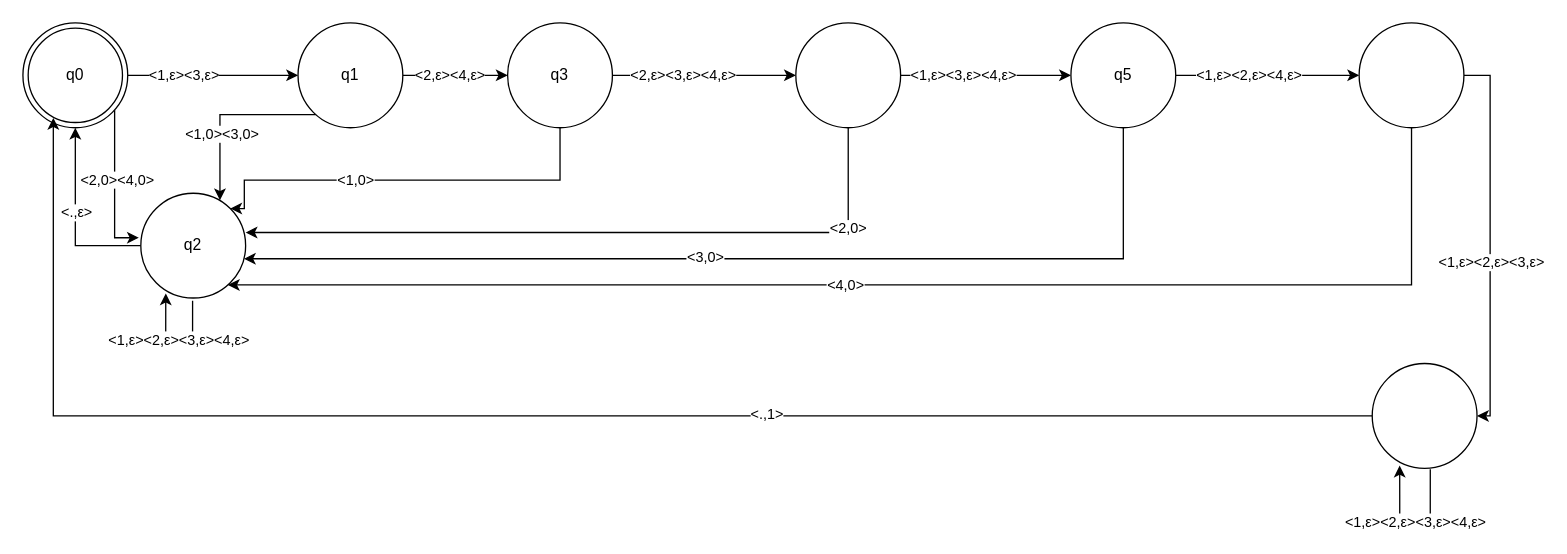
This 1567x554 diagram has some shape labels left out. Here are the shapes that lost their labels. From the top down, the centre of each, then its label:
At (x=848, y=75): "q4".
At (x=1411, y=75): "q6".
At (x=1424, y=415): "q7".
